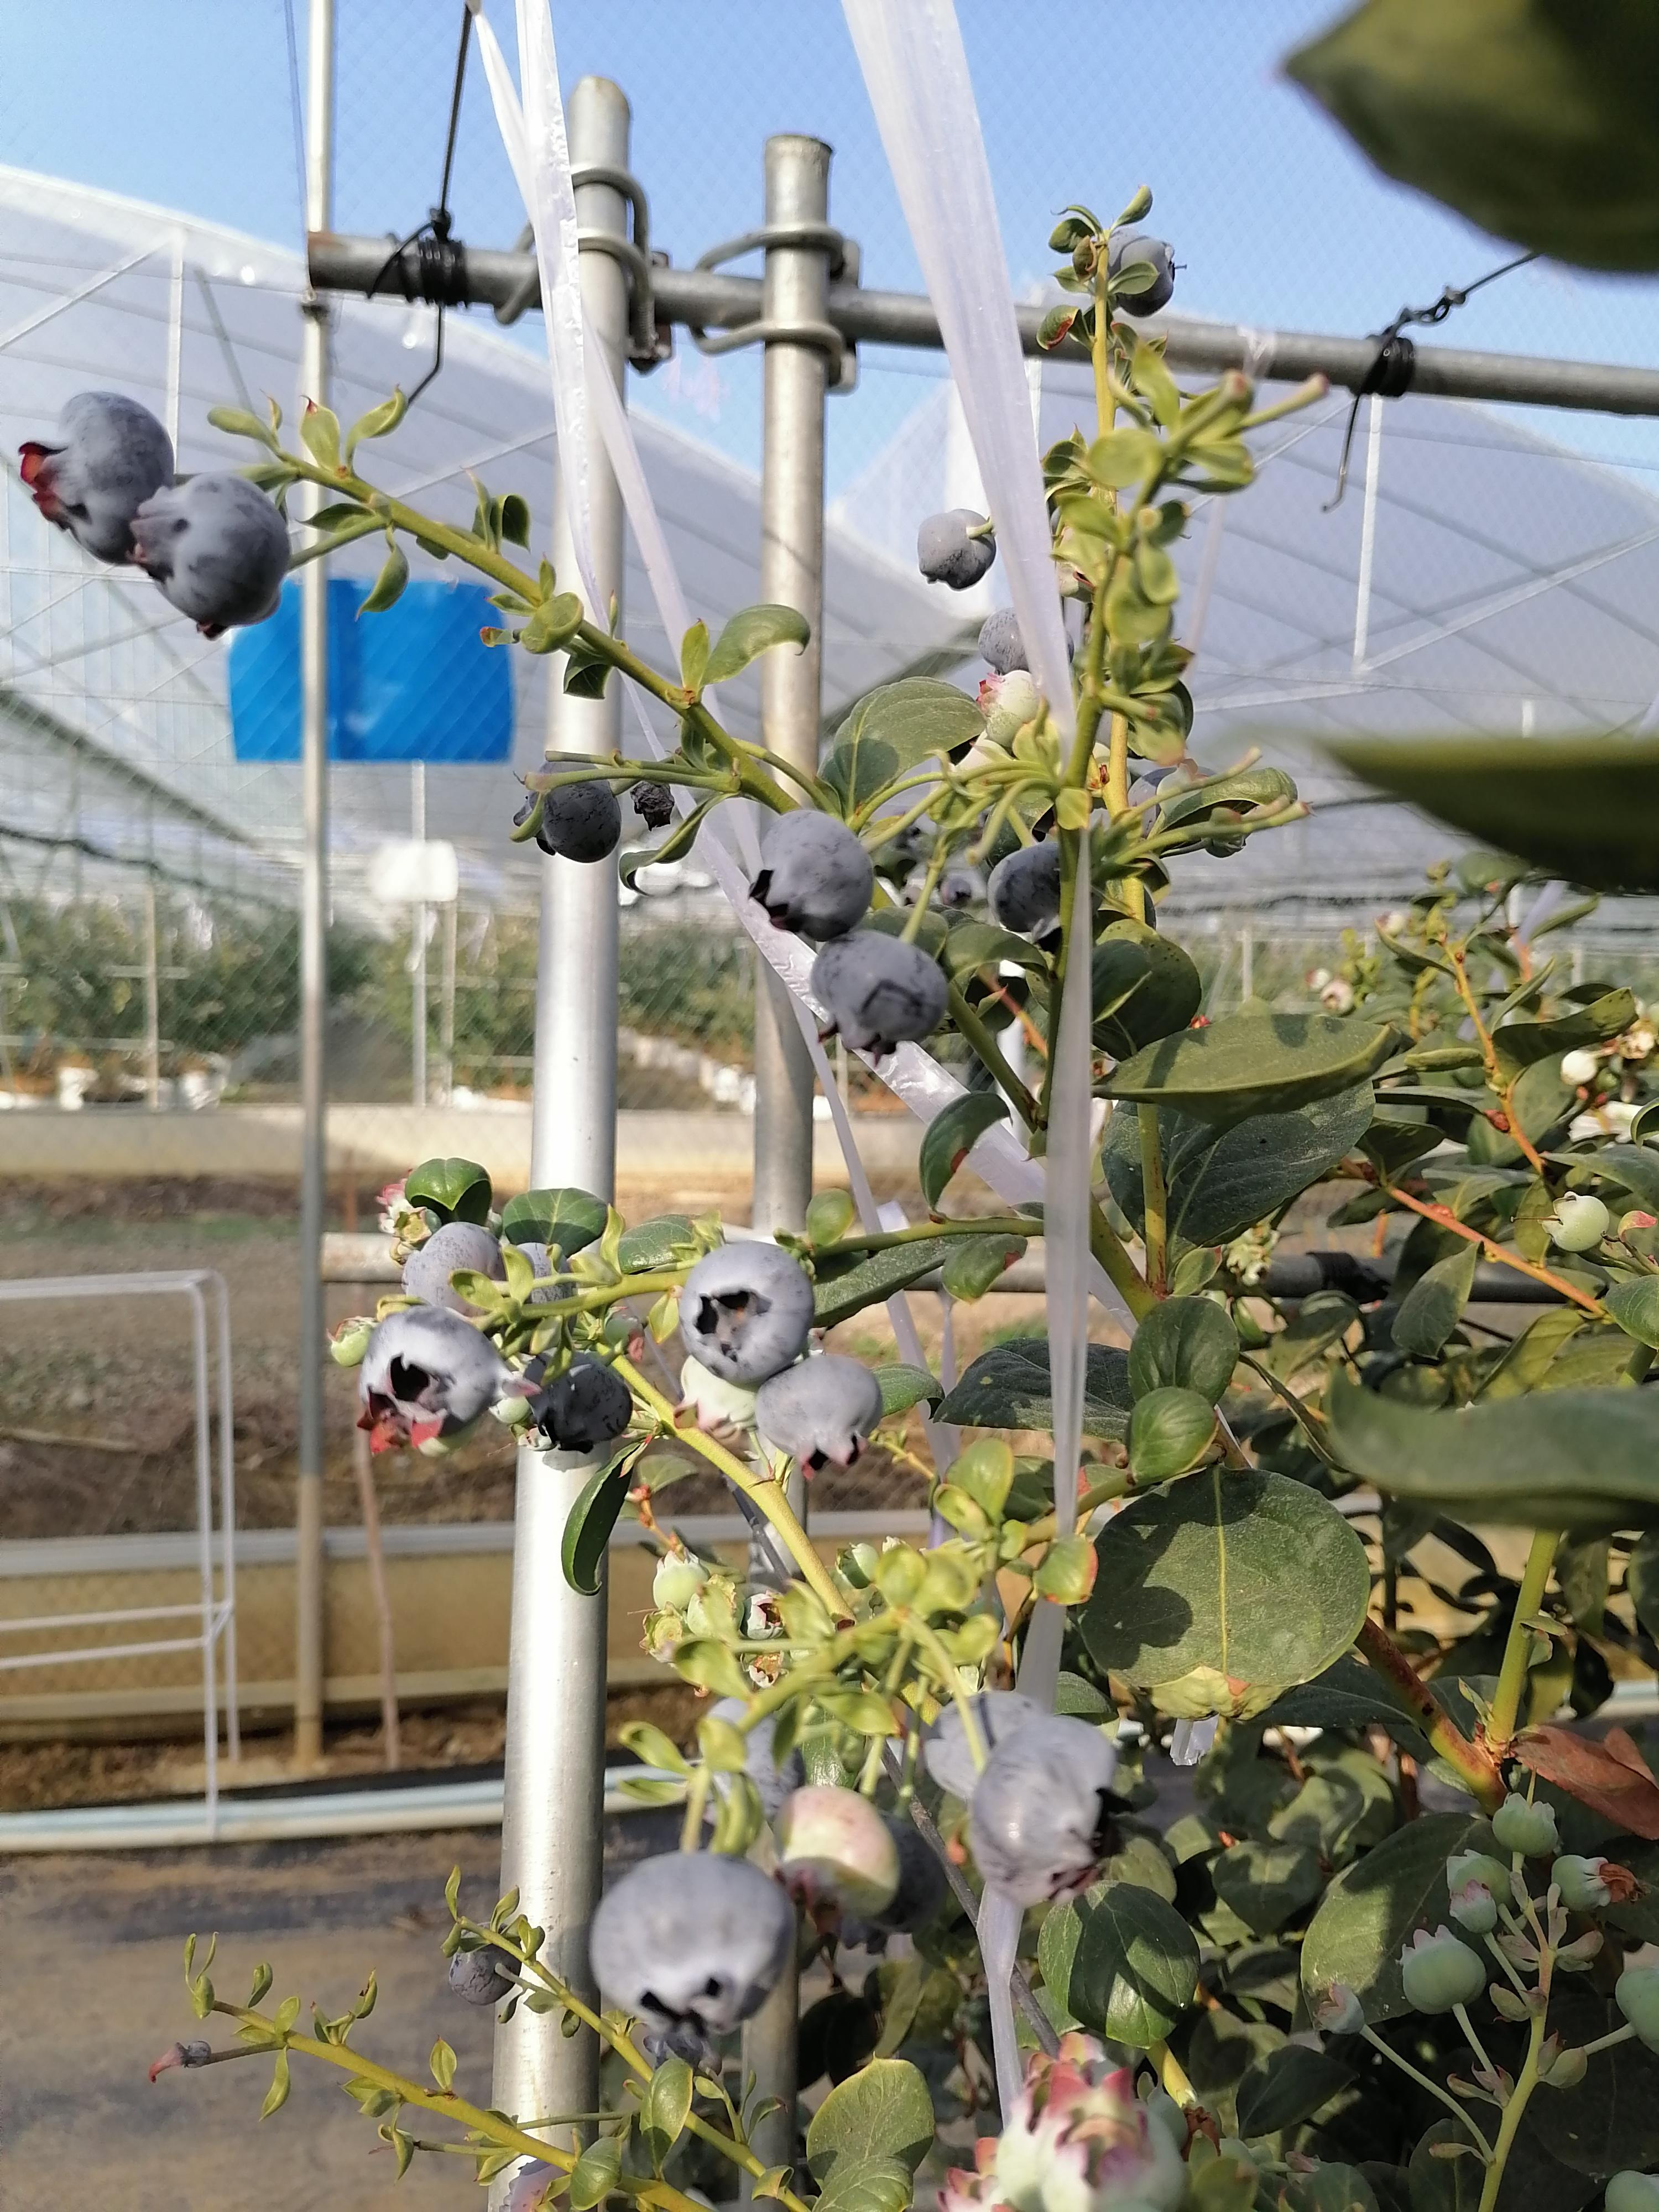ripe-blueberries: (586, 1848, 803, 2041), (969, 1710, 1121, 1912), (14, 387, 178, 570), (131, 470, 295, 629), (354, 1306, 500, 1456), (674, 1237, 817, 1388), (807, 928, 950, 1064), (753, 1352, 887, 1486), (742, 808, 877, 941), (924, 1686, 1042, 1808), (516, 1345, 634, 1458), (511, 751, 624, 866), (397, 1219, 511, 1318), (983, 838, 1061, 935), (448, 1914, 526, 2010), (1108, 226, 1188, 319), (915, 507, 997, 590), (972, 604, 1028, 676), (518, 1238, 579, 1301), (1127, 765, 1178, 836)
